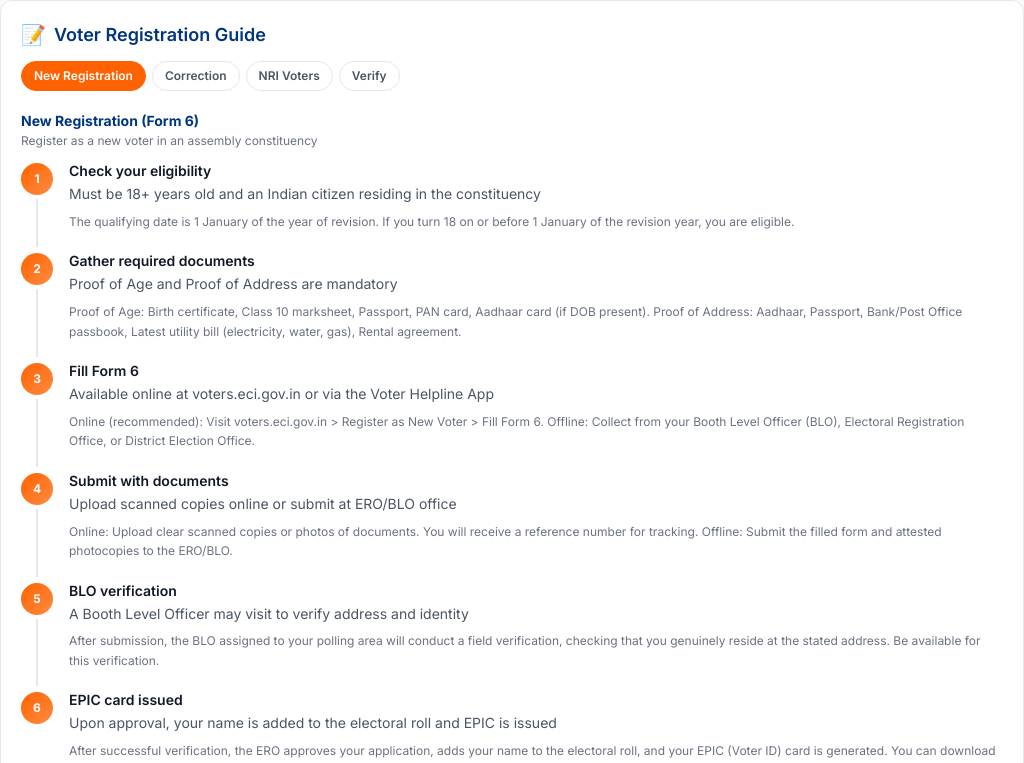
Scenario: RegistrationTabs › switches to Verify tab when clicked
Click the tab "Verify": (369, 76) [339, 61, 400, 91]
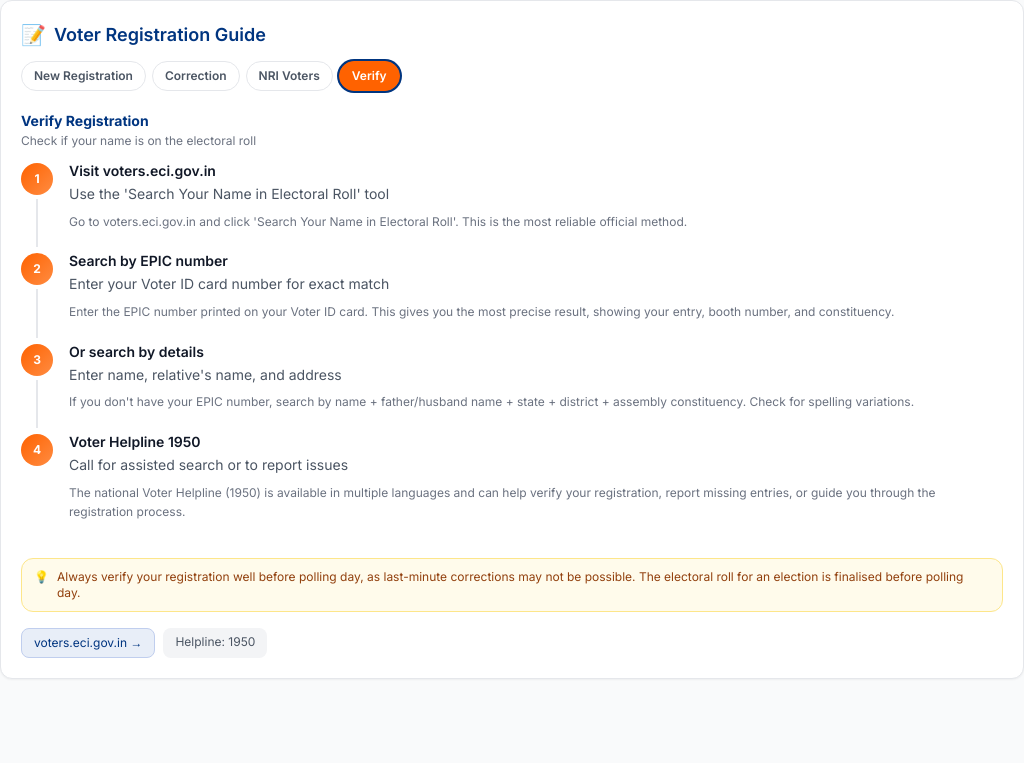
Expected: the heading "Verify Registration" is shown, [21, 112, 149, 129]
